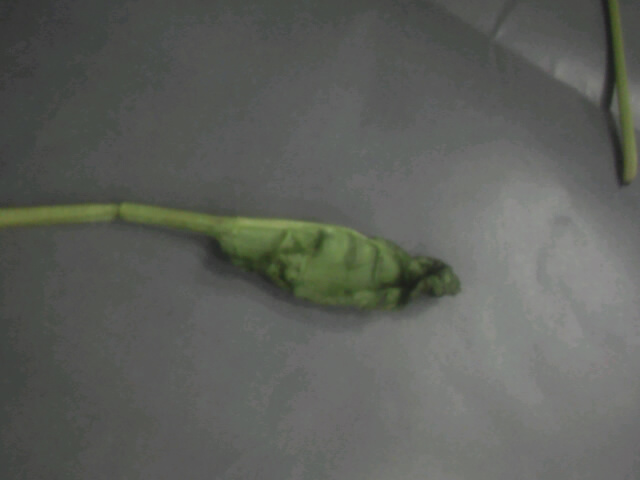yellow: (110, 179, 470, 323)
